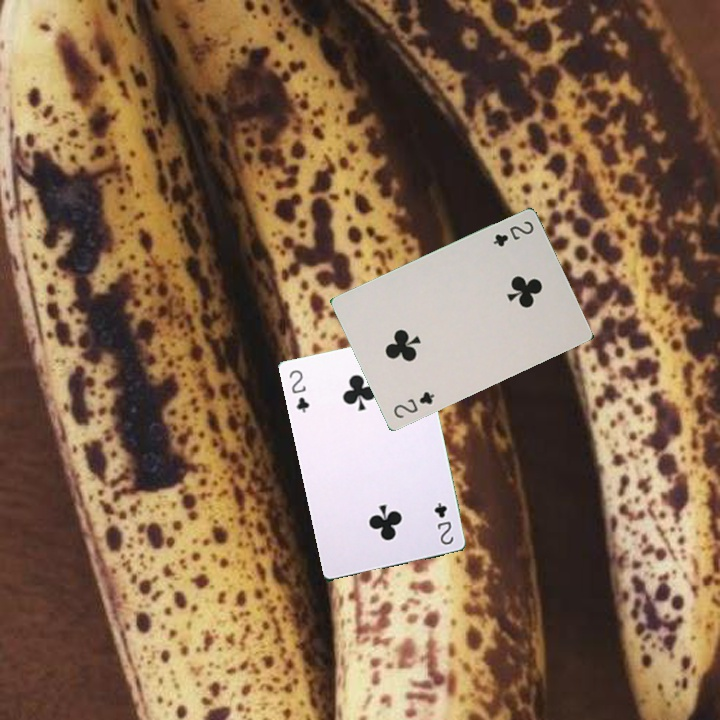2c: (389, 387, 437, 421), (489, 217, 536, 249), (285, 366, 312, 415), (430, 498, 456, 547)
